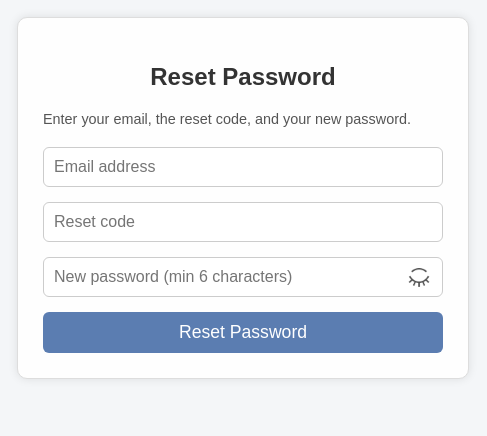
ResetPasswordPage › successful password reset shows message and navigates
The width and height of the screenshot is (487, 436).
Type "test@example.com" into the field with placeholder "Email address".
click(243, 167); type("test@example.com")  # box [43,147,443,187]
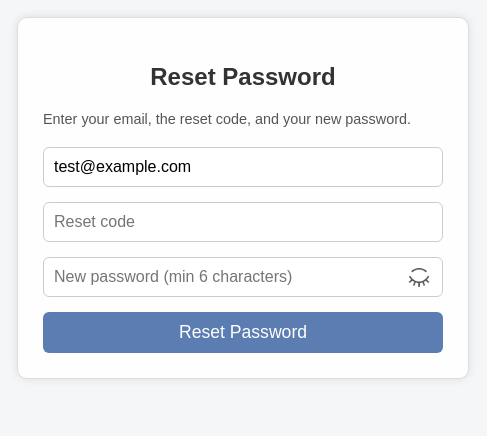
Type "123456" into the field with placeholder "Reset code".
click(243, 222); type("123456")  # box [43,202,443,242]
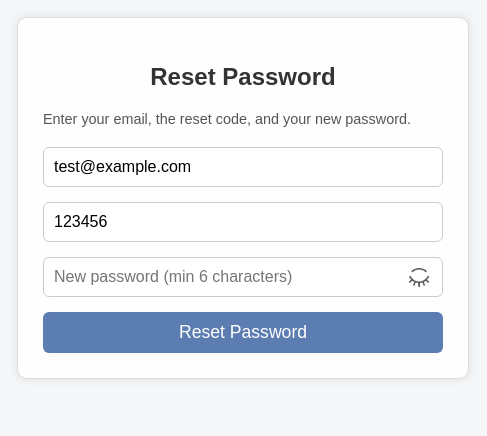
Type "password123" into the password field with placeholder "New password (min 6 characters)".
click(243, 277); type("password123")  # box [43,257,443,297]
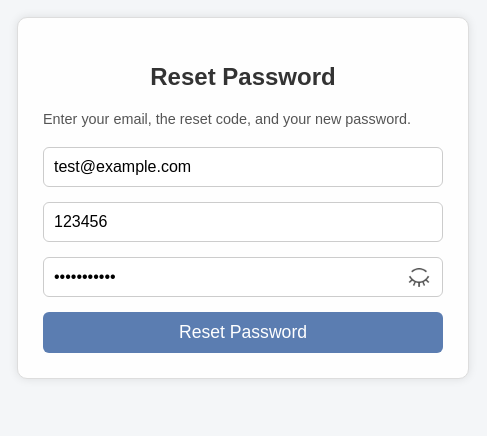
Click the button "Reset Password".
click(243, 332)  # box [43,312,443,353]
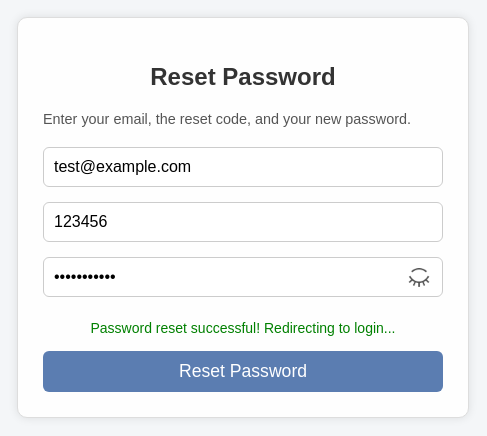
Check: the text "Password reset successful! Redirecting to login..." is shown, box [90,320,396,336]
